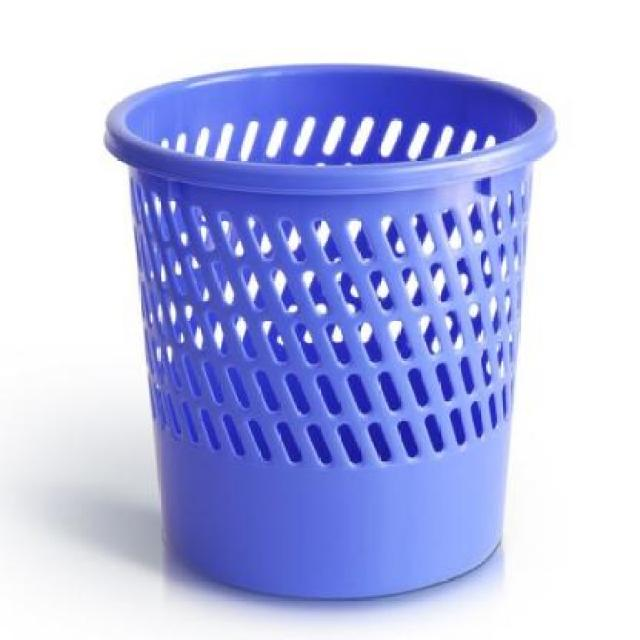dustbin: (97, 59, 565, 606)
